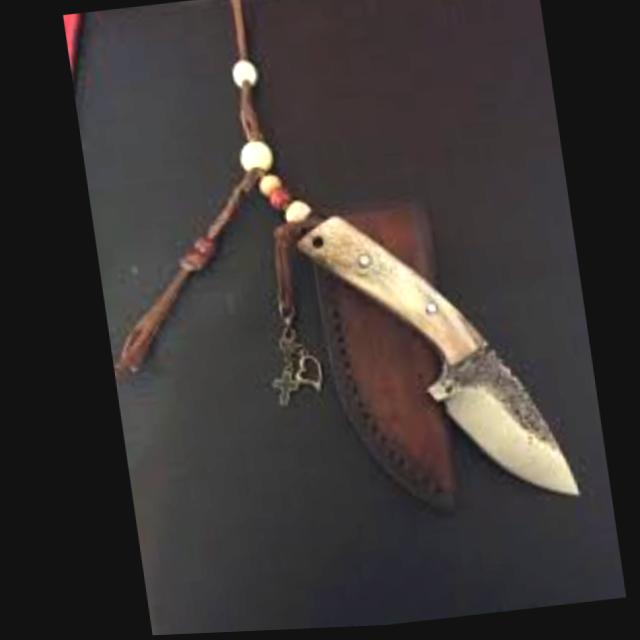knife: (279, 185, 571, 528)
